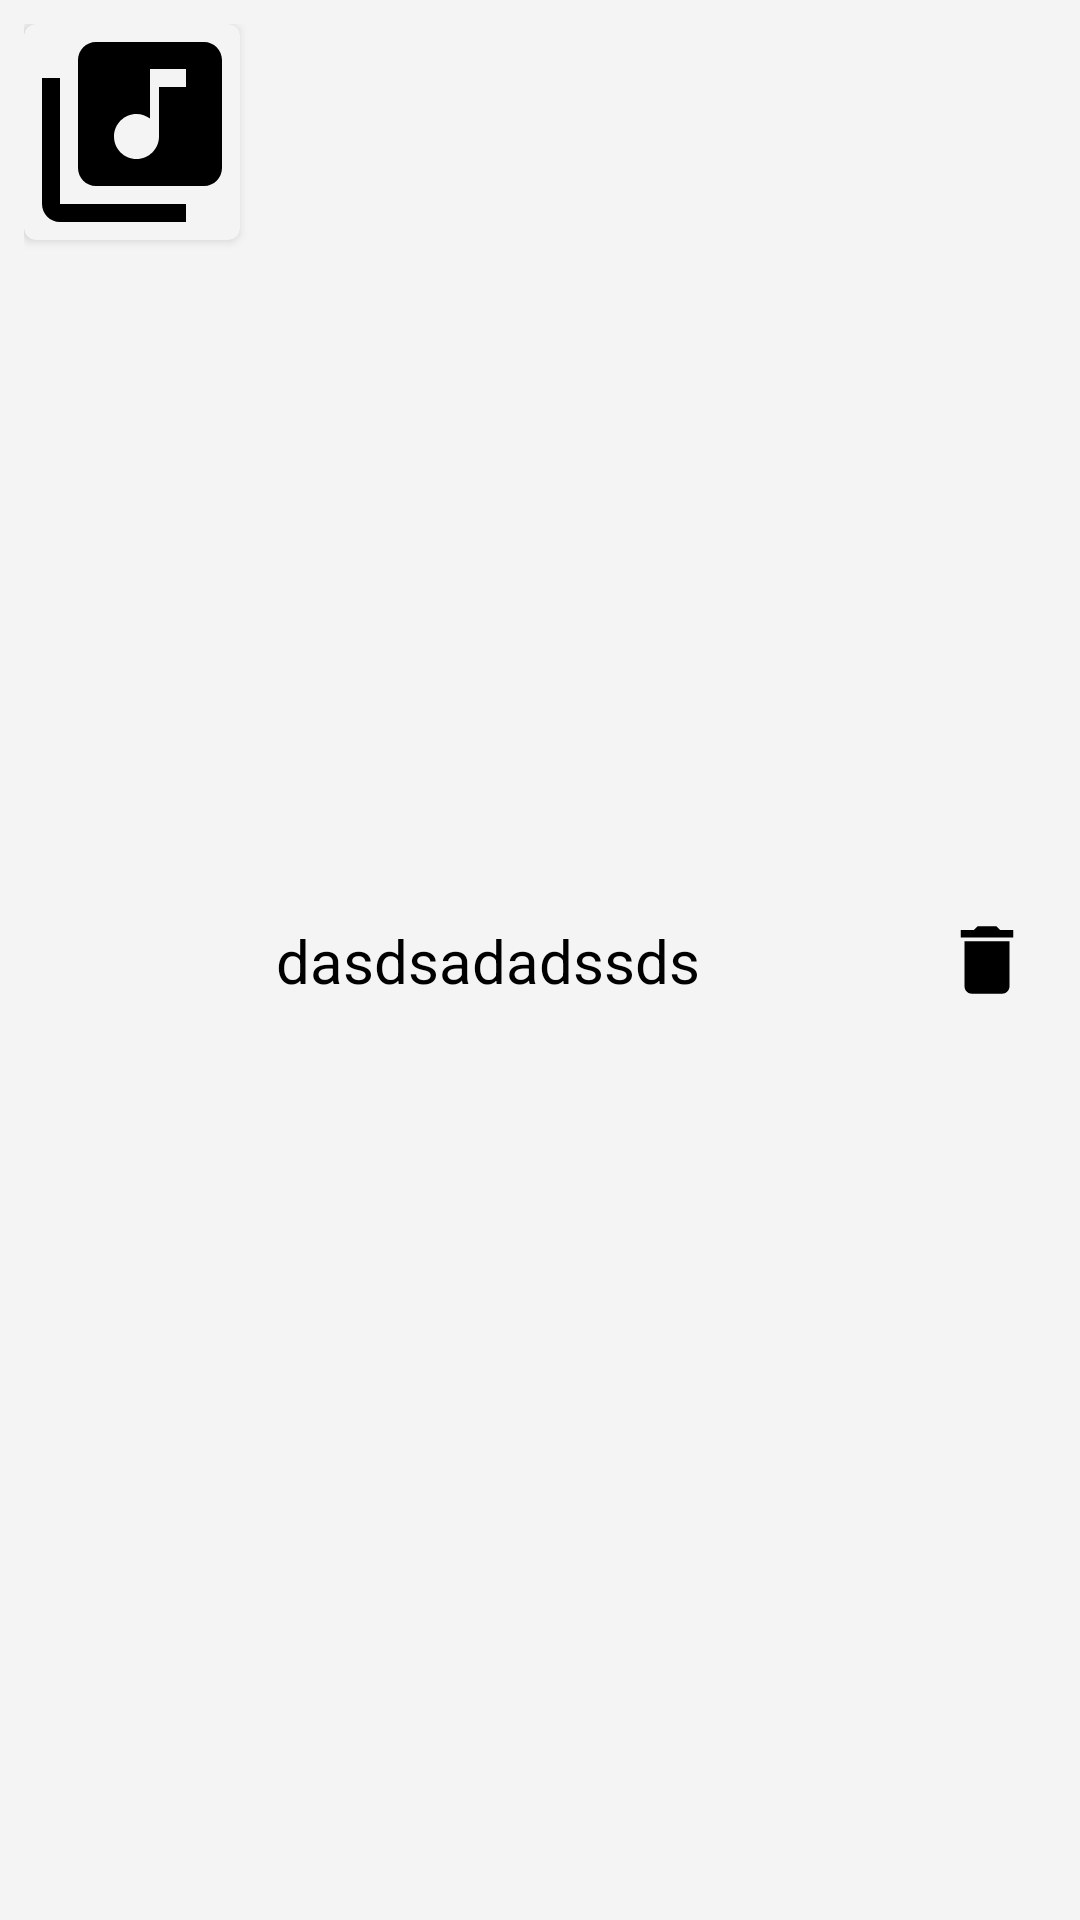

Icons on this 1080w x 1920h Android screen, each with the point to tap as point (x, y):
delete: point (987, 960)
library music: point (132, 132)
